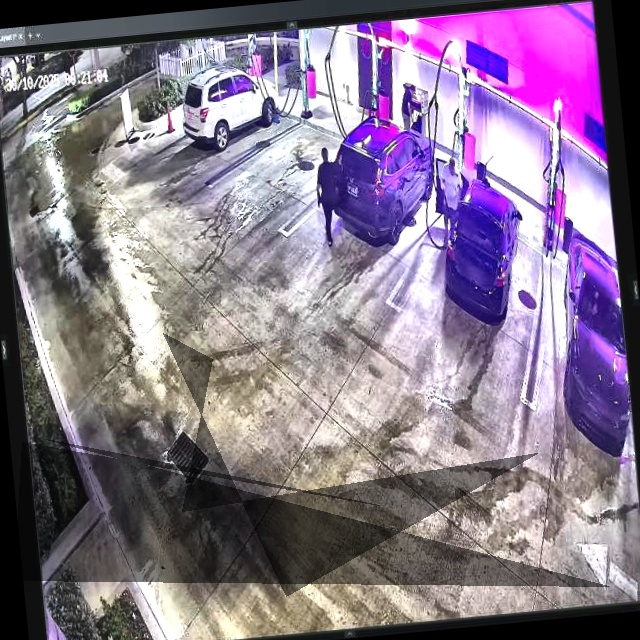Car: (324, 113, 442, 247), (434, 166, 529, 324), (177, 64, 284, 152)
